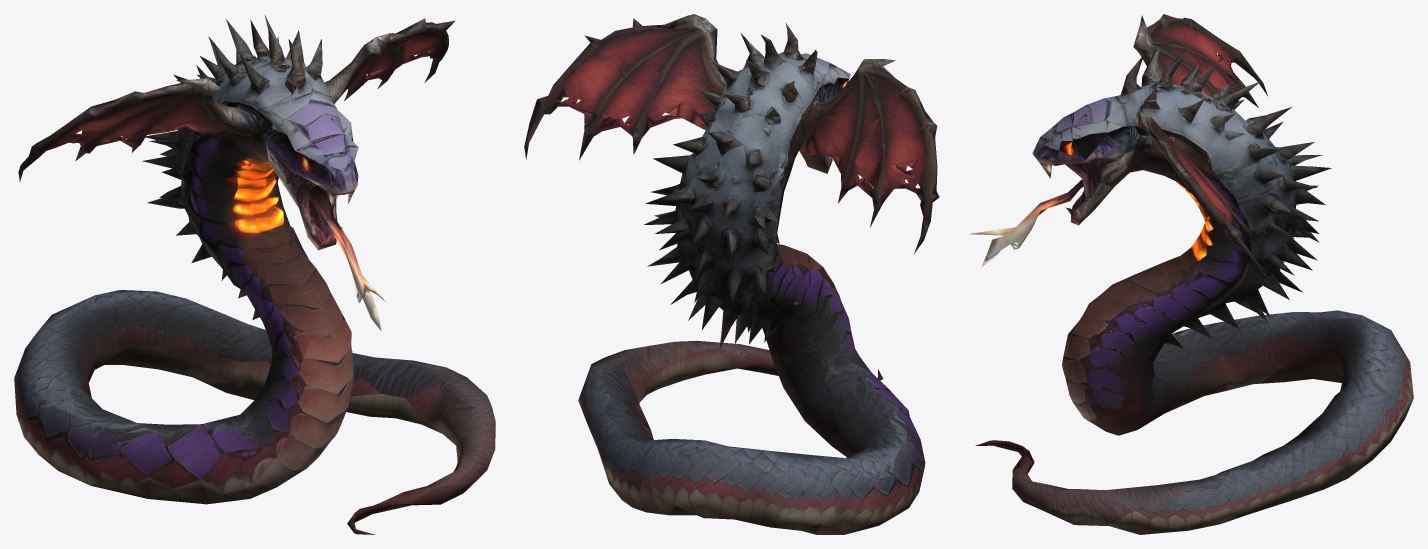
File: enemy_spitter.glb
3 views of the same model, side by side, from view 1: azimuth 30°, elevation 25°; view 2: azimuth 150°, elevation 25°; view 3: azimuth 270°, elevation 25° (orthographic). The views are drawn at different scales.
Visible parts, largest first — view 1: enemy_spitter; view 2: enemy_spitter; view 3: enemy_spitter.
Boxes of the visible parts, x1,y1,x2,y2 form: enemy_spitter: [14, 15, 495, 534]; enemy_spitter: [524, 14, 939, 534]; enemy_spitter: [969, 14, 1413, 534].
Size of the model in its own units: 0.9859 by 1 by 0.988.
Materials: 1 (1 with a texture image).
